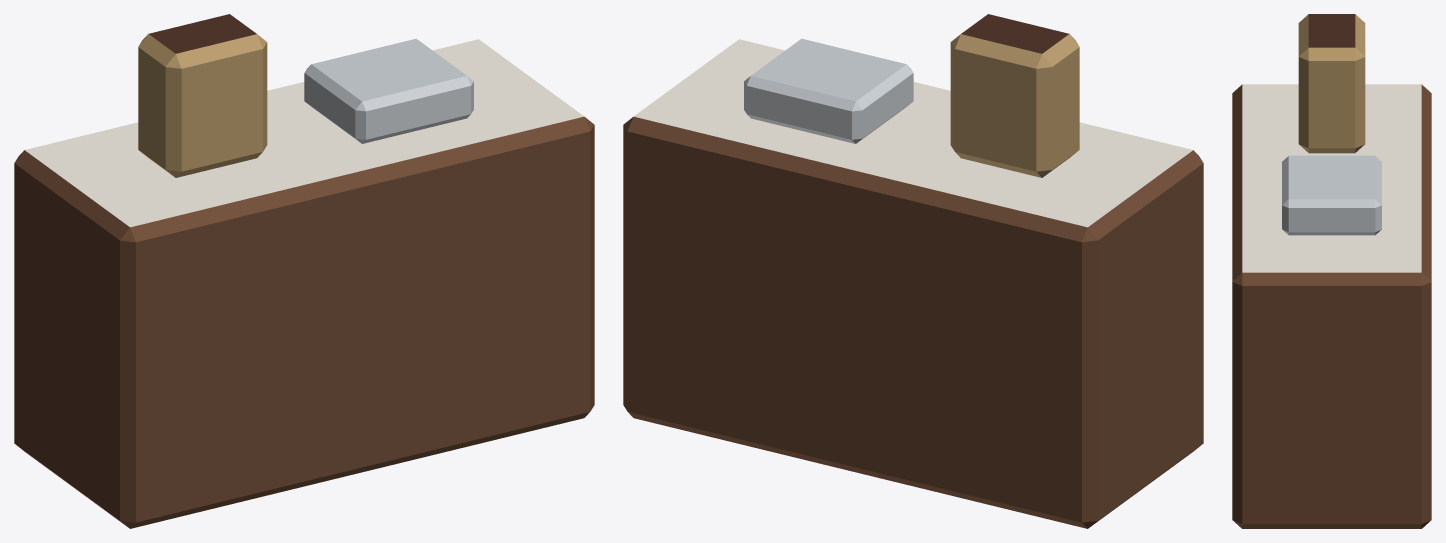
Rendered from packing_bench.fbx.
The picture shows the model from 3 angles, left to right: view 1: azimuth 30°, elevation 25°; view 2: azimuth 150°, elevation 25°; view 3: azimuth 270°, elevation 25°; orthographic projection. The views are drawn at different scales.
Visible parts, largest first — view 1: packing_bench; view 2: packing_bench; view 3: packing_bench.
Boxes of the visible parts, x1,y1,x2,y2 form: packing_bench: (14, 14, 594, 528); packing_bench: (623, 14, 1203, 528); packing_bench: (1232, 14, 1431, 528).
Size of the model in its own units: 1.4 by 1.2 by 0.6.
